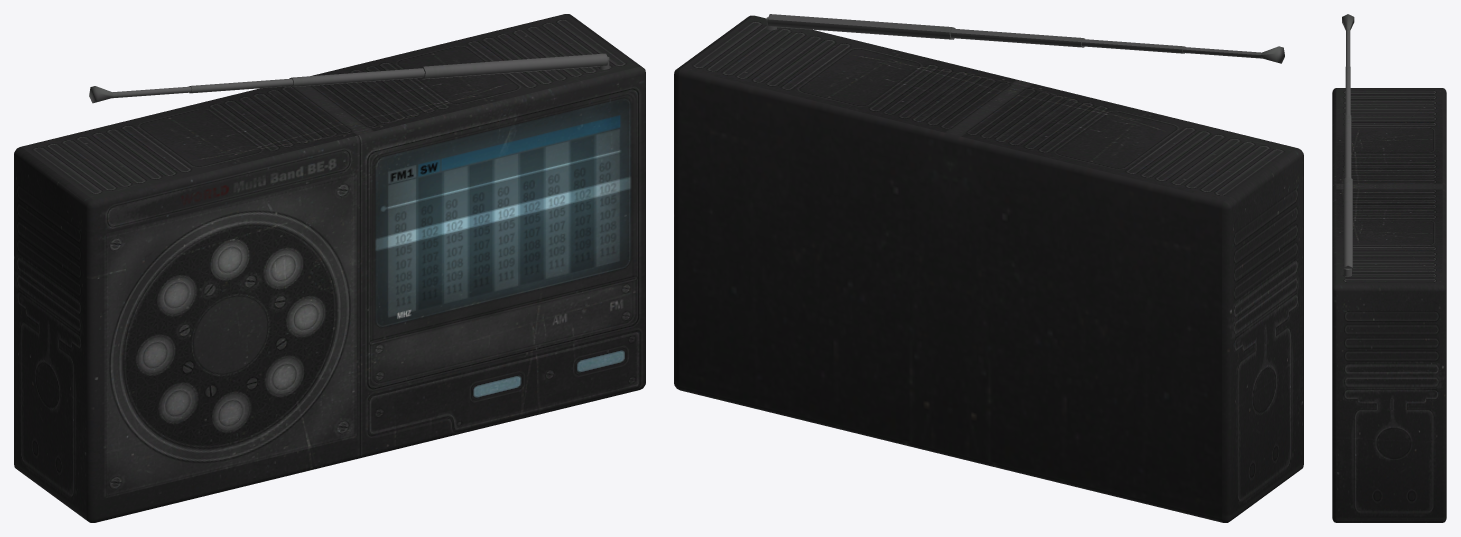
Rendered from radio.obj.
The picture shows the model from 3 angles, left to right: view 1: azimuth 30°, elevation 25°; view 2: azimuth 150°, elevation 25°; view 3: azimuth 270°, elevation 25°; orthographic projection. The views are drawn at different scales.
Visible parts, largest first — view 1: Radio; view 2: Radio; view 3: Radio.
Part boxes in pixels (box(x1,y1,x2,y2)): Radio: box(14, 14, 645, 522); Radio: box(674, 14, 1303, 522); Radio: box(1332, 14, 1446, 522).
Size of the model in its own units: 34.72 by 25.46 by 8.36.
